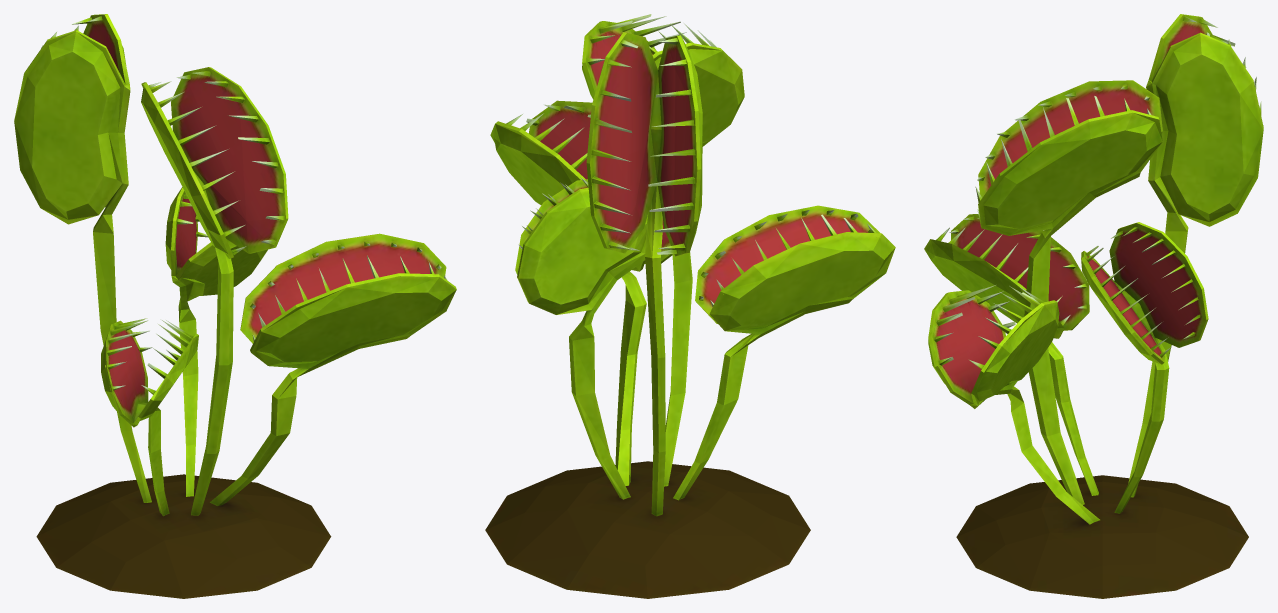
The model's file is venus-flytrap-poly-by-google_0y4ZpRcGhoD.glb.
3 renders of one model, left to right at view 1: azimuth 30°, elevation 25°; view 2: azimuth 150°, elevation 25°; view 3: azimuth 270°, elevation 25°, orthographic. The views are drawn at different scales.
Visible parts, largest first — view 1: VenusFlyTrap_mesh; view 2: VenusFlyTrap_mesh; view 3: VenusFlyTrap_mesh.
Part boxes in pixels (x1=…): VenusFlyTrap_mesh: x1=14, y1=14, x2=456, y2=598; VenusFlyTrap_mesh: x1=485, y1=14, x2=895, y2=598; VenusFlyTrap_mesh: x1=924, y1=14, x2=1263, y2=598.
Bounding box in the file's own units: 8.03 × 10.81 × 6.79.
Materials: 1 (1 with a texture image).
